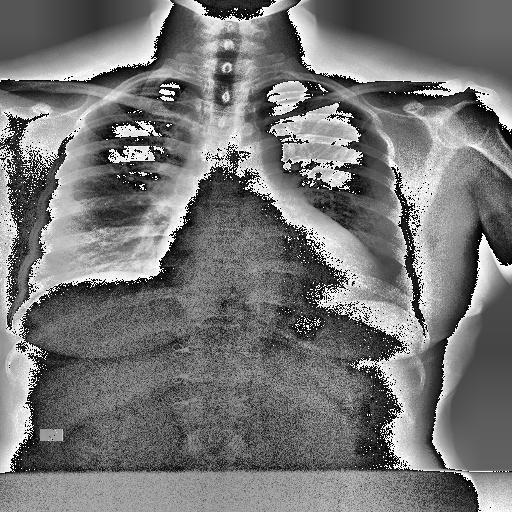0- Aortic enlargement: (235, 130, 285, 186)
3- Cardiomegaly: (158, 225, 382, 298), (156, 238, 386, 308), (153, 238, 387, 300)
